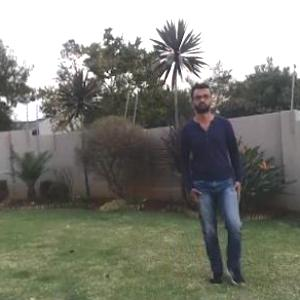follow: (175, 58, 254, 299)
